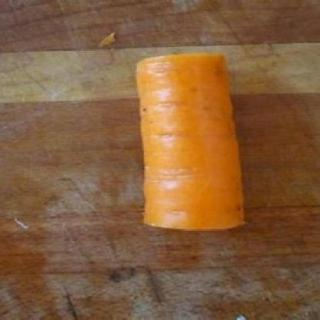carrot: (124, 45, 260, 241)
